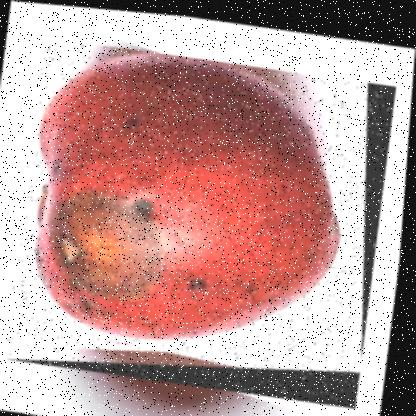apple_rotten: (6, 32, 399, 402)
